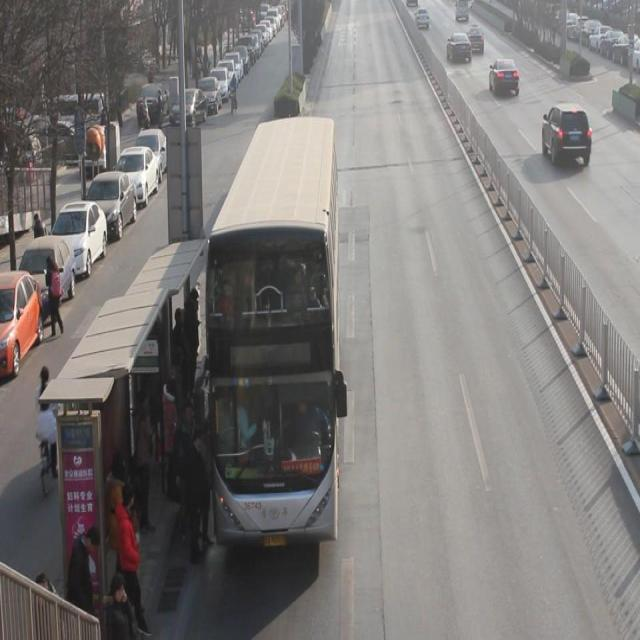car: (543, 106, 595, 170), (490, 60, 522, 101), (447, 33, 474, 68), (467, 26, 487, 57), (415, 11, 431, 33)
truck: (456, 8, 470, 23)
van: (207, 132, 339, 551)
